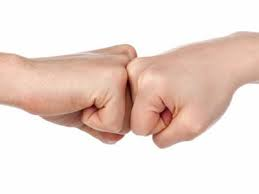fist: (43, 35, 131, 161), (135, 49, 225, 147)
